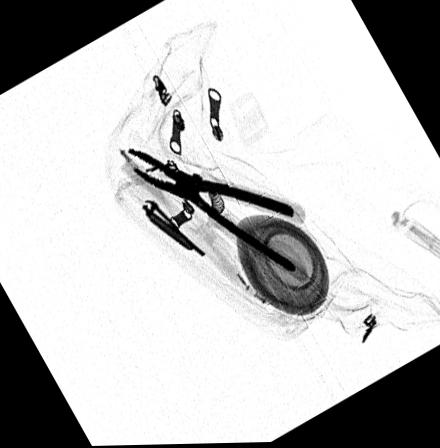Pliers: (126, 148, 295, 272)
